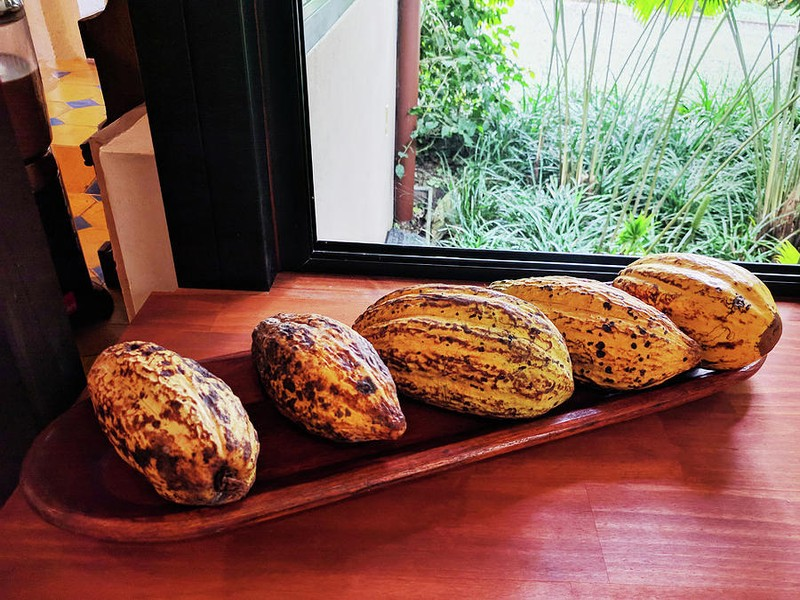Cacaopod: (355, 284, 573, 416), (84, 342, 260, 503), (486, 276, 702, 388), (249, 313, 407, 441), (617, 253, 783, 373)
